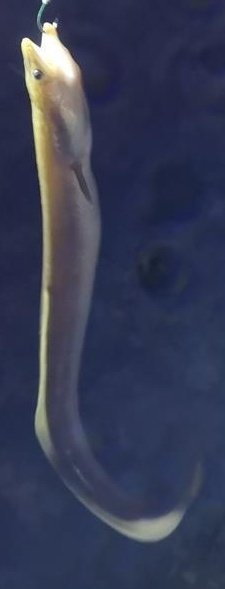Anguilla anguilla: (20, 20, 205, 569)
